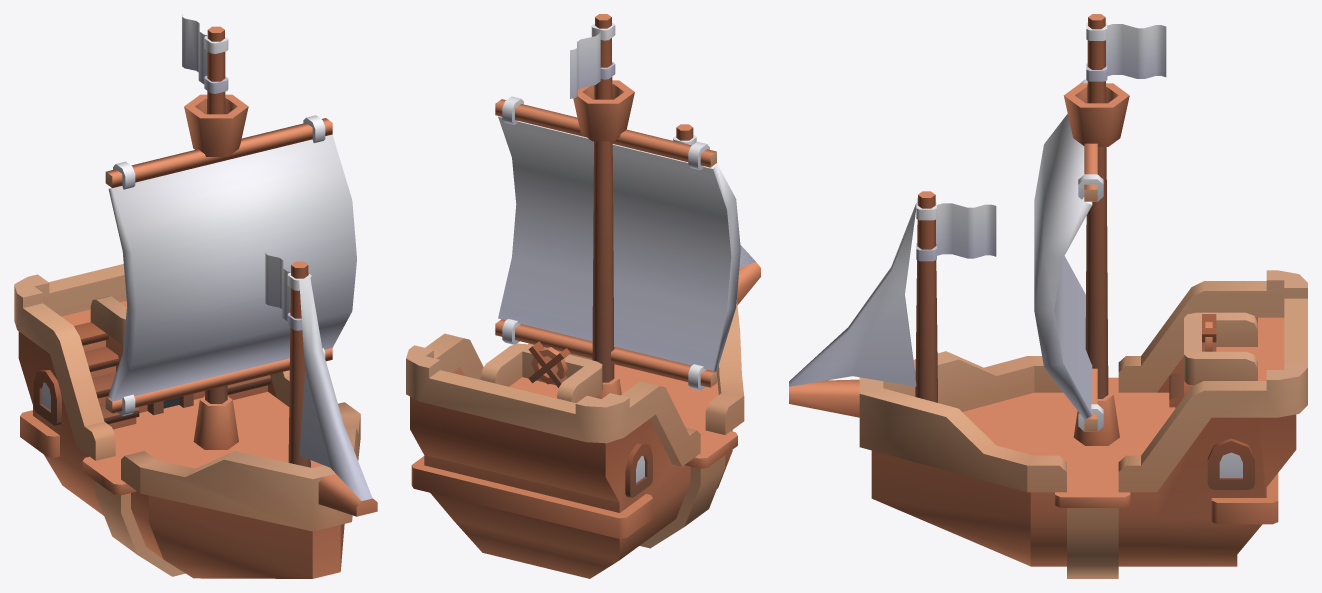
Rendered from small_ship.glb.
3 views of the same model, side by side, from view 1: azimuth 30°, elevation 25°; view 2: azimuth 150°, elevation 25°; view 3: azimuth 270°, elevation 25° (orthographic). The views are drawn at different scales.
Visible parts, largest first — view 1: ship-small; view 2: ship-small; view 3: ship-small.
Part boxes in pixels (x1=…): ship-small: x1=14, y1=15, x2=377, y2=578; ship-small: x1=406, y1=14, x2=760, y2=578; ship-small: x1=789, y1=14, x2=1307, y2=578.
Size of the model in its own units: 4.8 by 9.96 by 8.8.
1 material, 1 textured.
